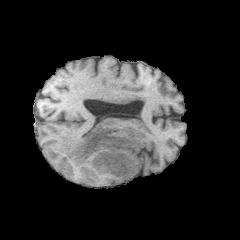glioma: (56, 126, 153, 183)
